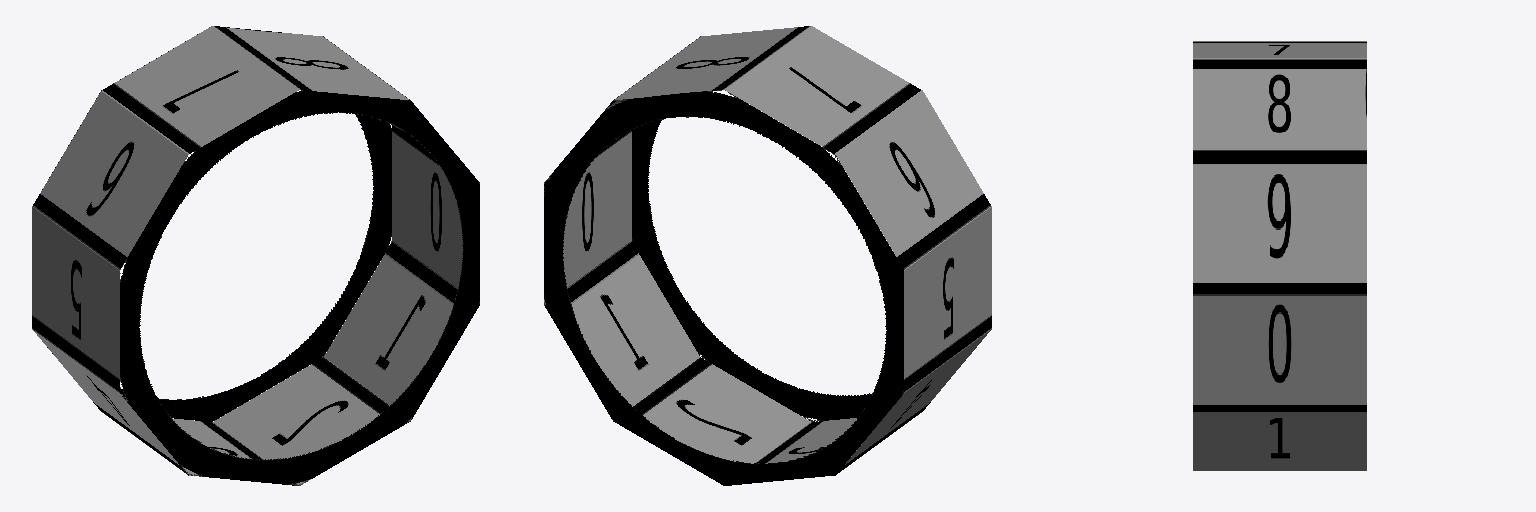
The picture shows the model from 3 angles: view 1: azimuth 30°, elevation 25°; view 2: azimuth 150°, elevation 25°; view 3: azimuth 270°, elevation 25°; orthographic projection.
Parts seen in each view (by area): view 1: Cylinder; view 2: Cylinder; view 3: Cylinder.
Part boxes in pixels (left/top/right/bottom): Cylinder: left=32, top=26, right=479, bottom=485; Cylinder: left=544, top=26, right=991, bottom=485; Cylinder: left=1193, top=41, right=1366, bottom=470.
Size of the model in its own units: 1.9 by 2 by 0.8.
1 materials, 1 textured.